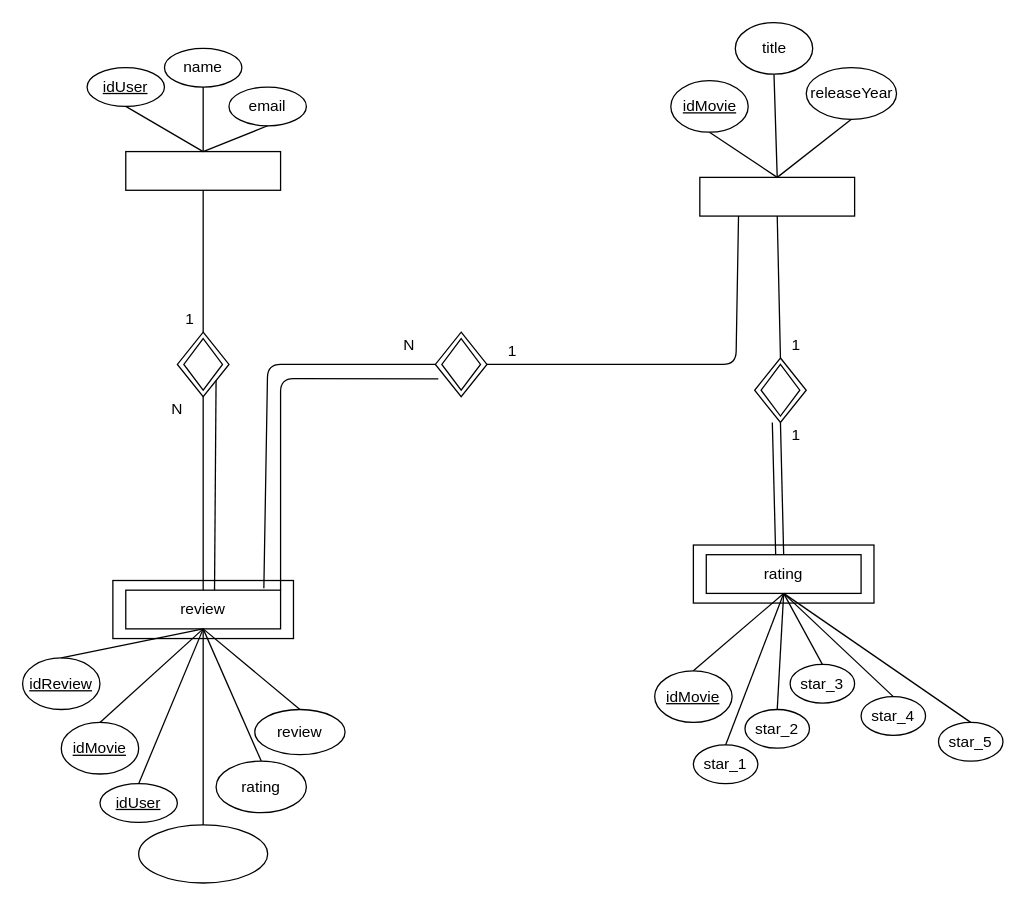
Some shapes in this 1026 by 906 pixel diagram are drawn without their labels. Each missing label, with the centre of its shape:
"movie" goes at point 777,196.
"reviewSummary" goes at point 202,853.
"users" goes at point 202,170.
